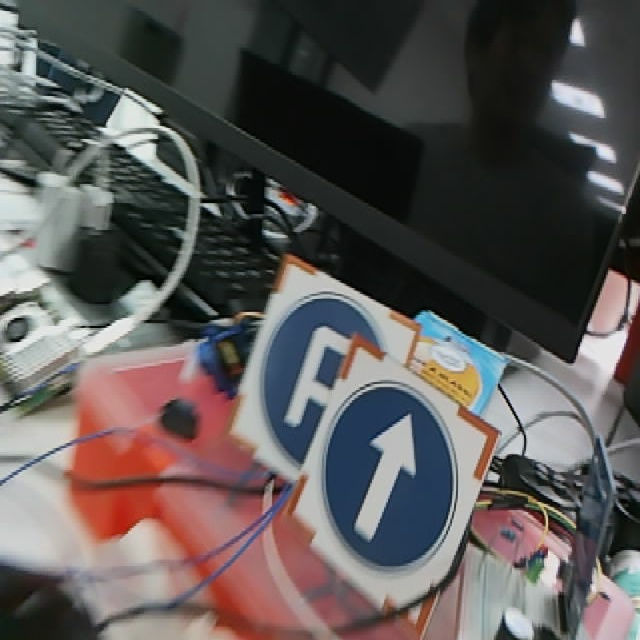parking: (233, 259, 417, 486)
straight: (293, 338, 496, 612)
